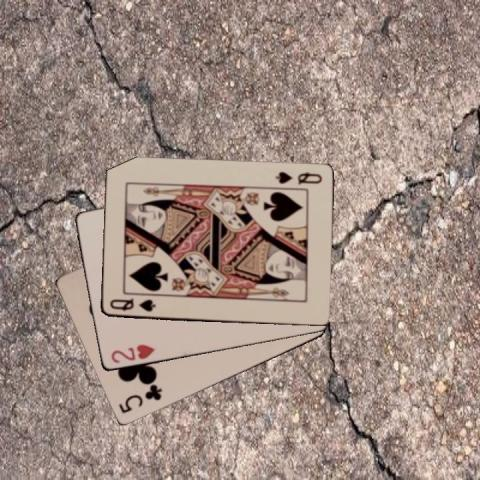2h: (107, 341, 156, 365)
5c: (115, 383, 164, 415)
Qs: (273, 169, 324, 186), (107, 296, 156, 313)
